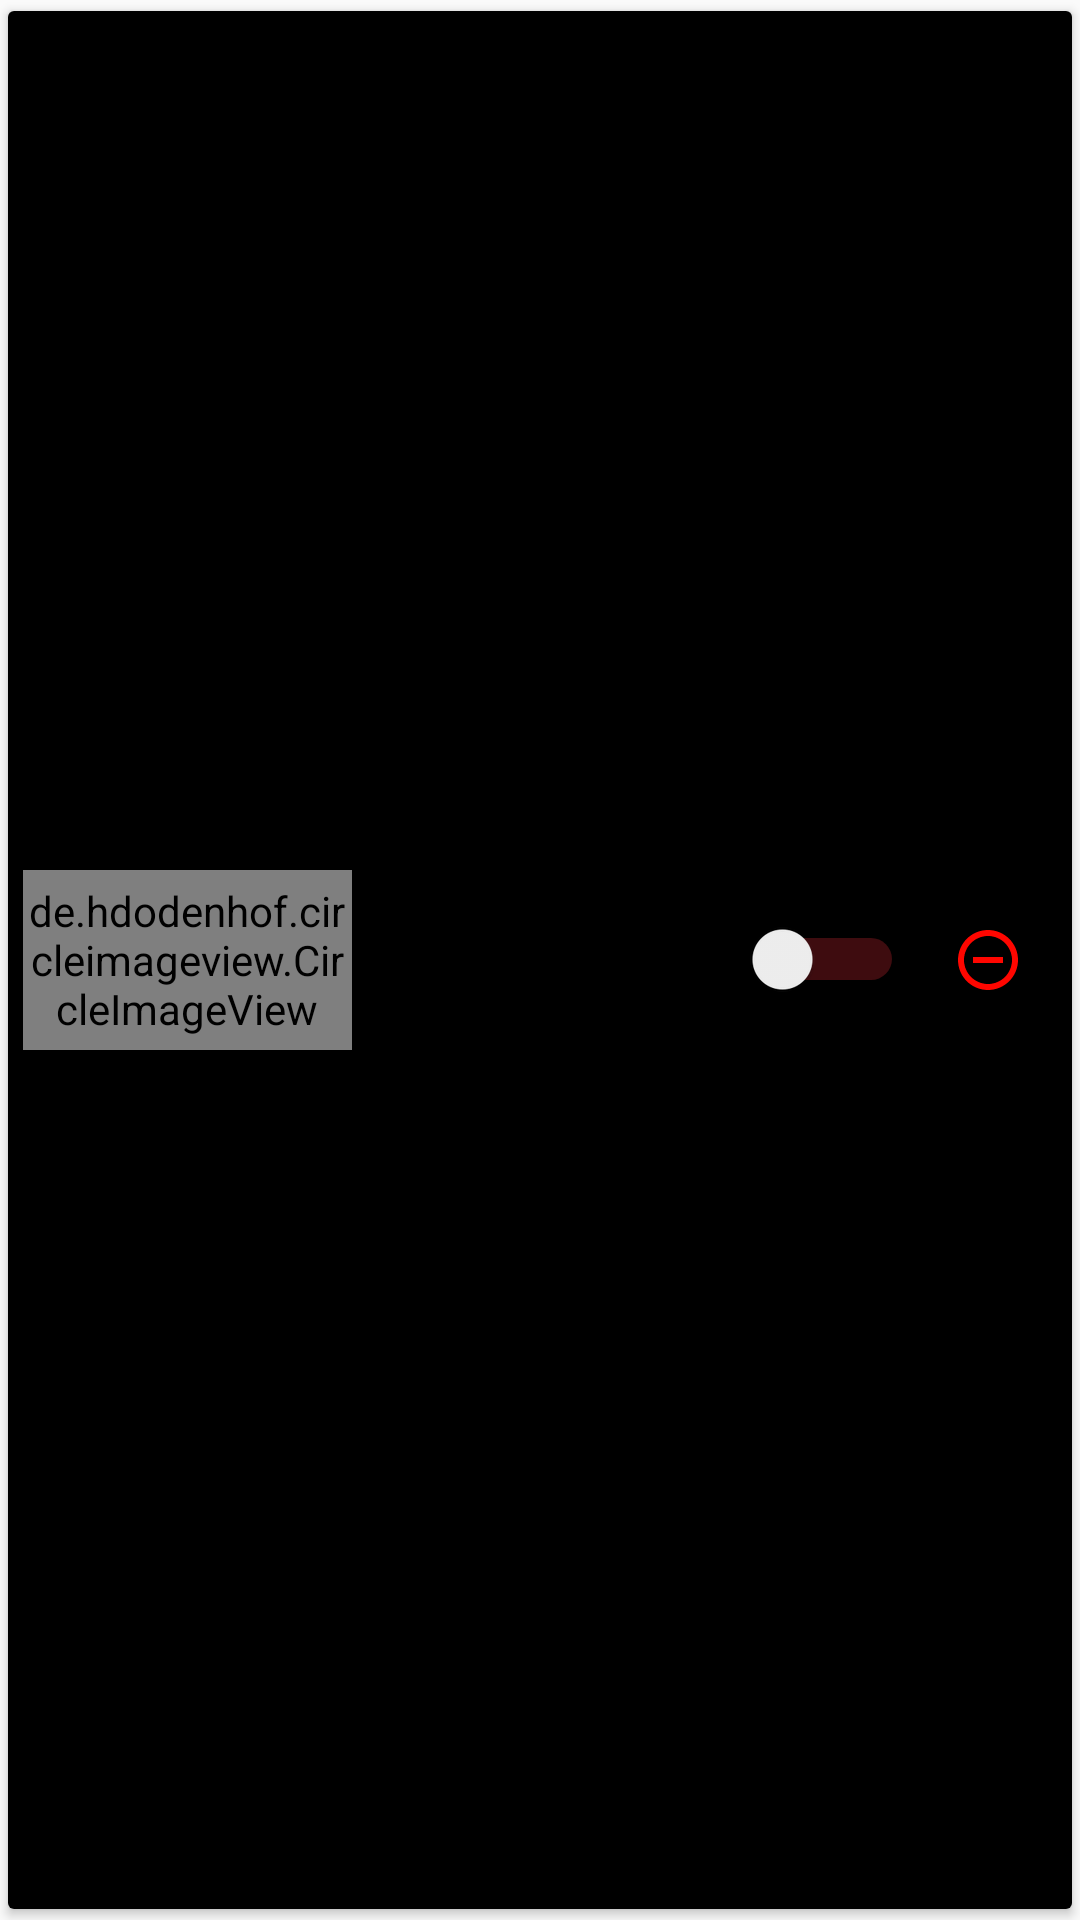

Point at icon controls on the screen. Image size 1080×1920, points as point (x, y).
remove circle: point (988, 960)
